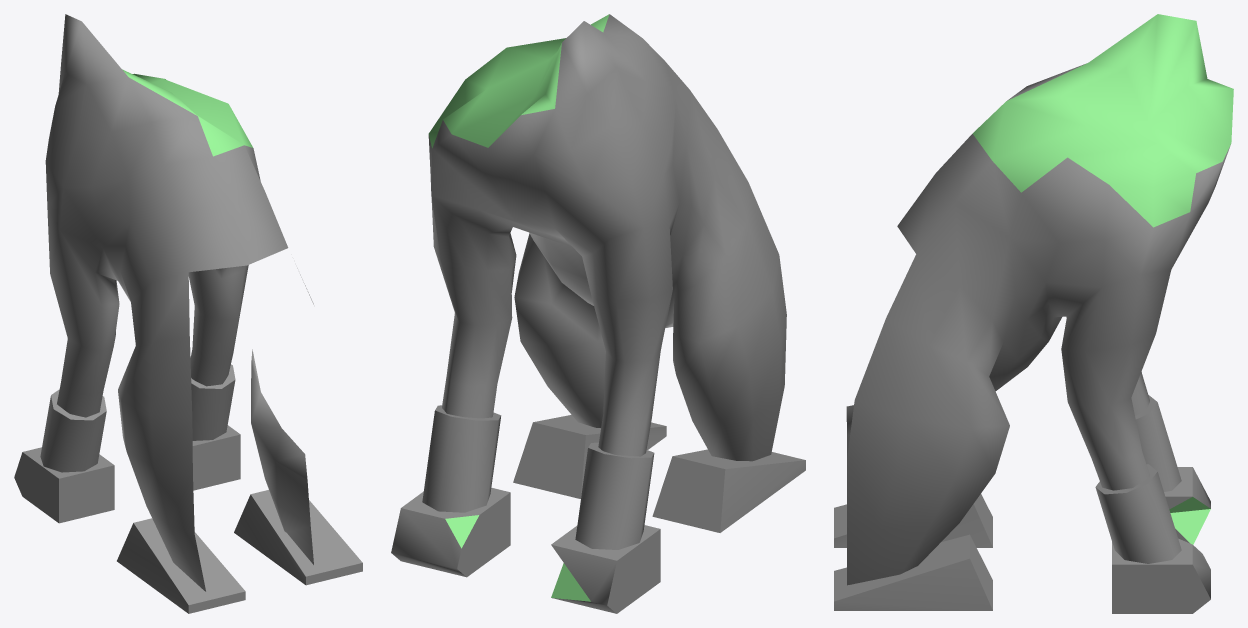
File: SSQ_statue02_b01.gltf
3 renders of one model, left to right at view 1: azimuth 30°, elevation 25°; view 2: azimuth 150°, elevation 25°; view 3: azimuth 270°, elevation 25°, orthographic. The views are drawn at different scales.
Visible parts, largest first — view 1: SSQ_statue02_b01; view 2: SSQ_statue02_b01; view 3: SSQ_statue02_b01.
Boxes of the visible parts, bbox=[...] form: SSQ_statue02_b01: bbox=[14, 14, 362, 613]; SSQ_statue02_b01: bbox=[391, 14, 805, 613]; SSQ_statue02_b01: bbox=[834, 14, 1233, 613].
Size of the model in its own units: 0.4205 by 1.01 by 0.697.
